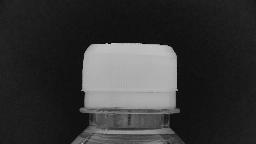Broken Cap: (78, 40, 180, 114)
